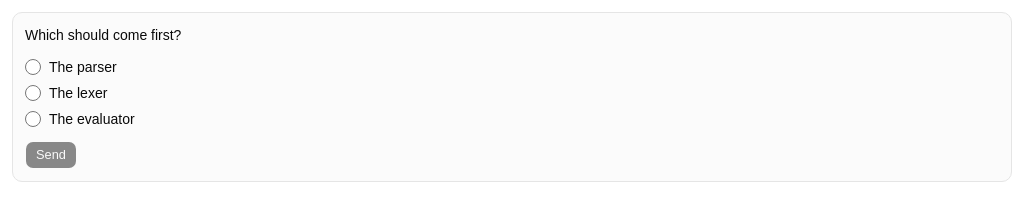
Scenario: QuestionPrompt › cannot be sent empty
Expected: the button "Send" is disabled, [25,141,77,169]
Click the radio button labelled "The parser": (33, 67) [25,59,41,75]
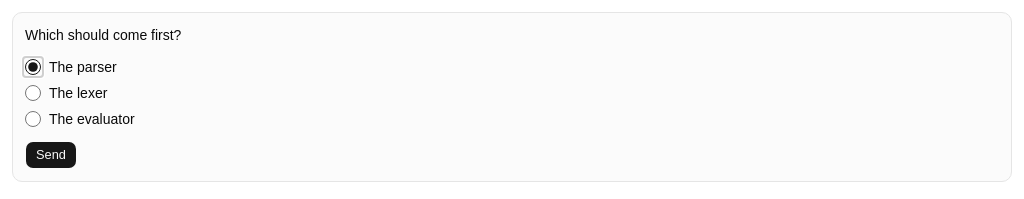
Expected: the button "Send" is enabled, [25,141,77,169]
